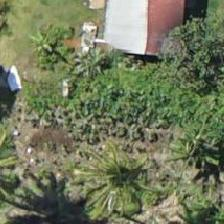coconut_tree: (55, 115, 145, 205)
